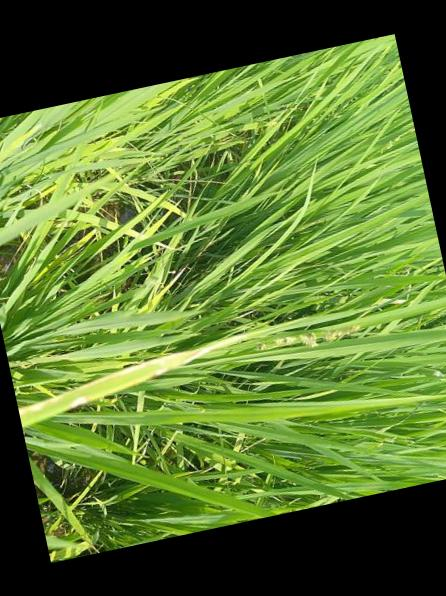Leaf Blight: (19, 309, 356, 423)
